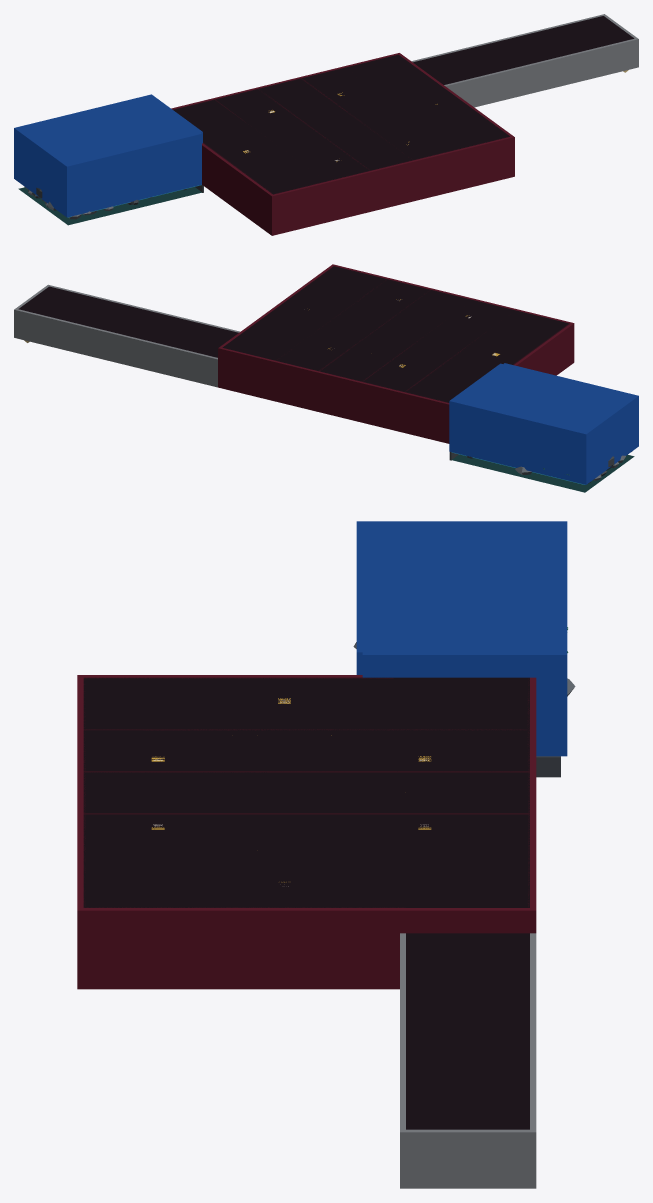
The model's file is casino.glb.
3 renders of one model, top to bottom at view 1: azimuth 30°, elevation 25°; view 2: azimuth 150°, elevation 25°; view 3: azimuth 270°, elevation 25°, orthographic. The views are drawn at different scales.
Visible parts, largest first — view 1: shell, pond, range; view 2: shell, pond, range; view 3: shell, pond, range.
Boxes of the visible parts, <box> form: shell: <box>171,53,514,235</box>; pond: <box>14,94,203,225</box>; range: <box>411,14,638,107</box>; shell: <box>218,264,574,443</box>; pond: <box>449,363,638,492</box>; range: <box>14,284,239,387</box>; shell: <box>77,675,536,989</box>; pond: <box>353,521,575,777</box>; range: <box>400,933,536,1188</box>.
Bounding box in the file's own units: 108 × 10.8 × 40.16.
